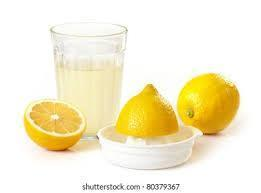lemon: (177, 72, 240, 134), (24, 97, 86, 150), (115, 84, 178, 136)
